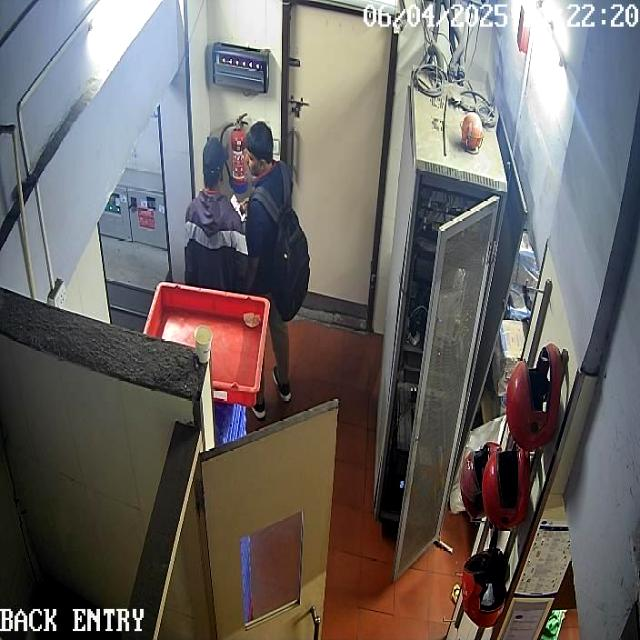helmet: (505, 343, 562, 451), (481, 448, 529, 528), (460, 550, 505, 627)
no_helmet: (245, 121, 274, 176), (202, 139, 229, 190)
